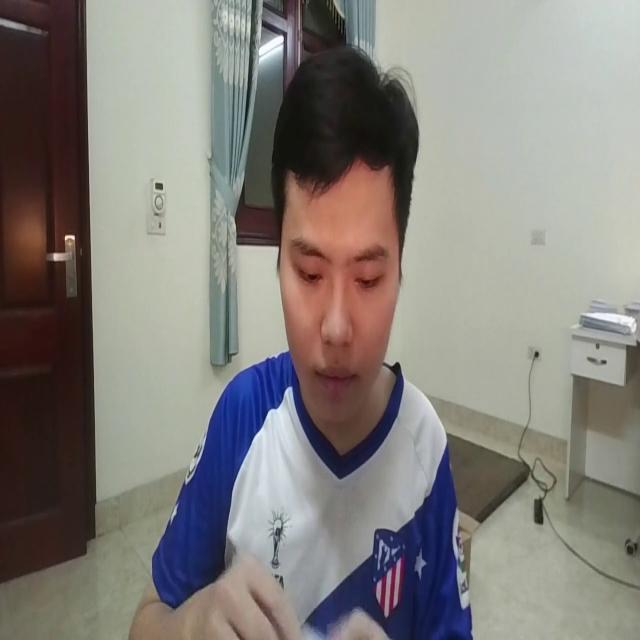student: (122, 30, 485, 640)
